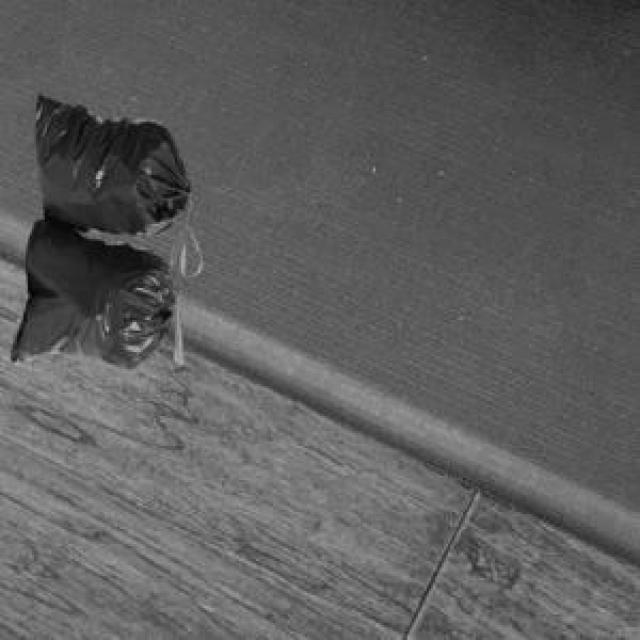miscellaneous trash: (6, 90, 188, 365)
